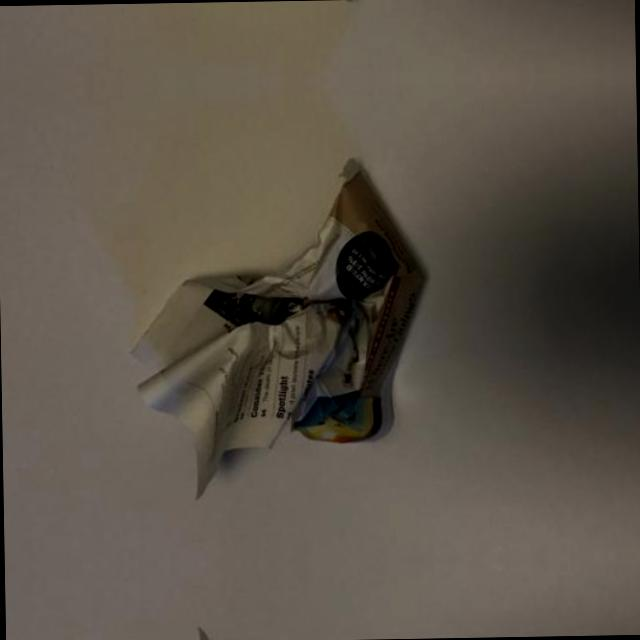paper: (85, 122, 438, 510), (82, 0, 429, 37), (93, 613, 439, 640)
